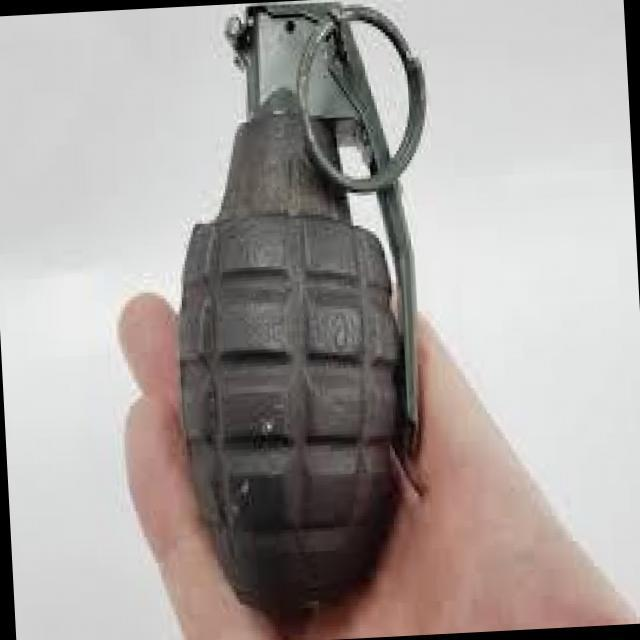grenade: (140, 0, 456, 628)
